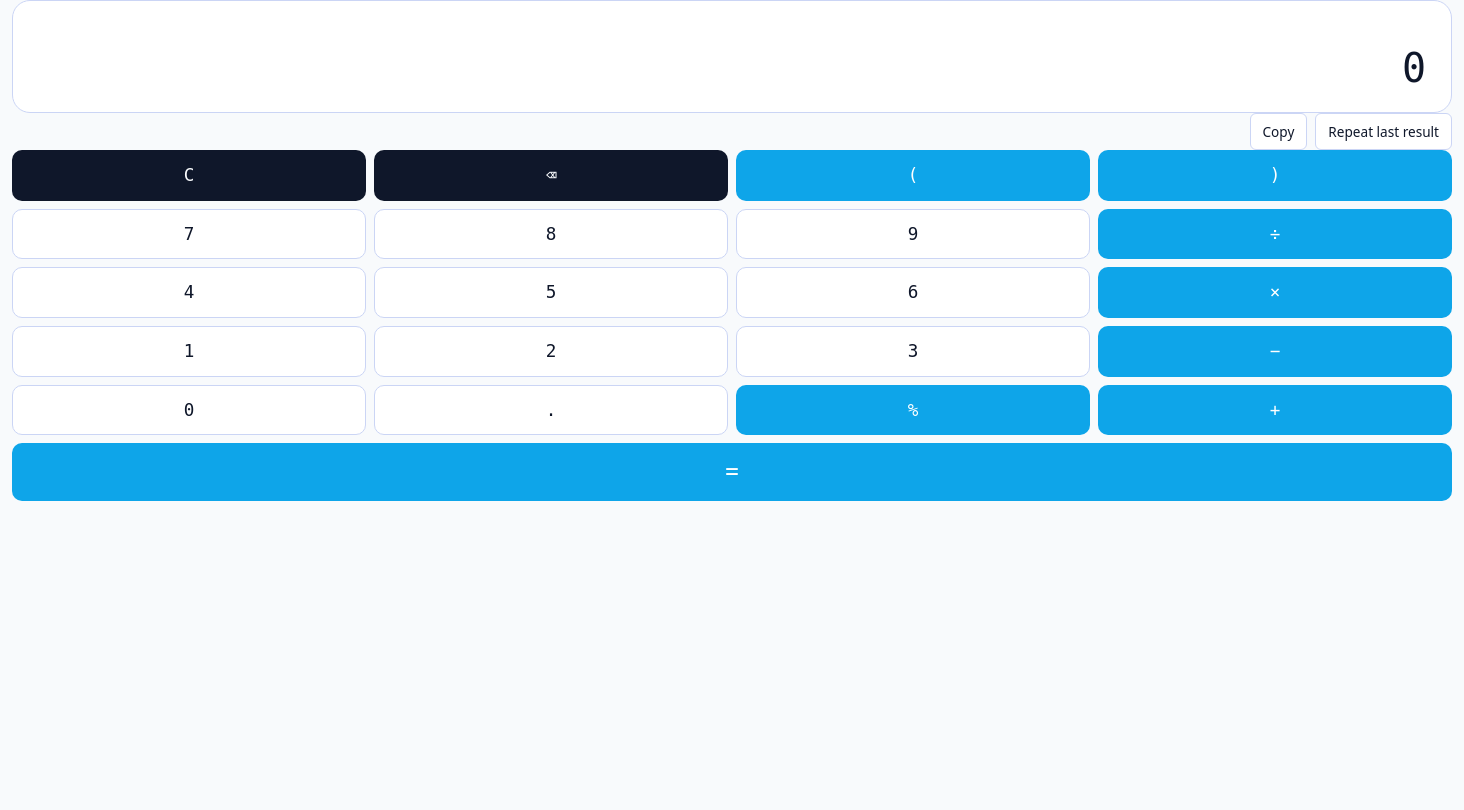
Test case: BasicView interactions › computes 2 + 3 * 4 with correct precedence
The width and height of the screenshot is (1464, 810).
Click the button "2".
click(551, 351)  # box [374, 326, 728, 376]
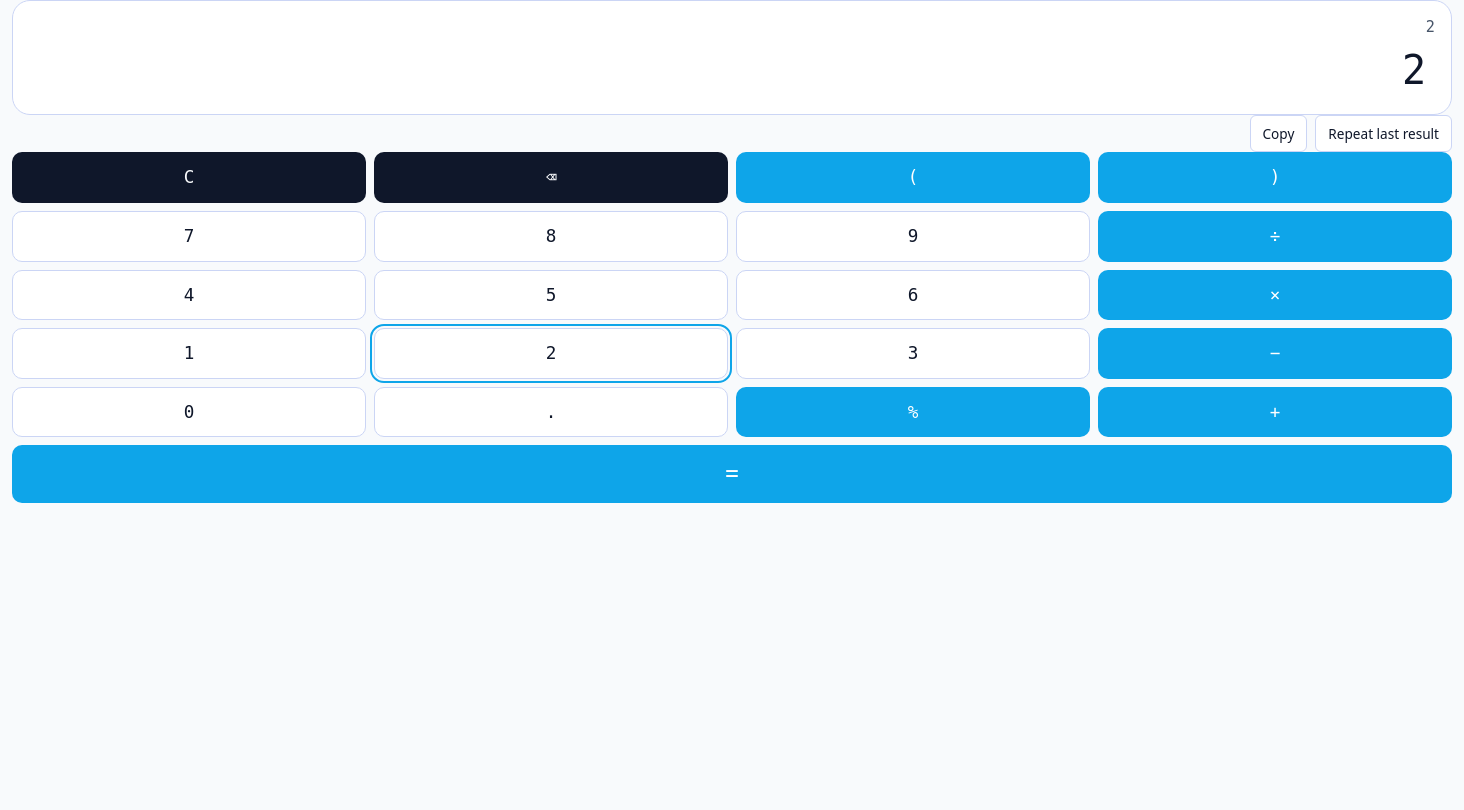
Click the button "+".
click(1275, 412)  # box [1098, 387, 1452, 437]
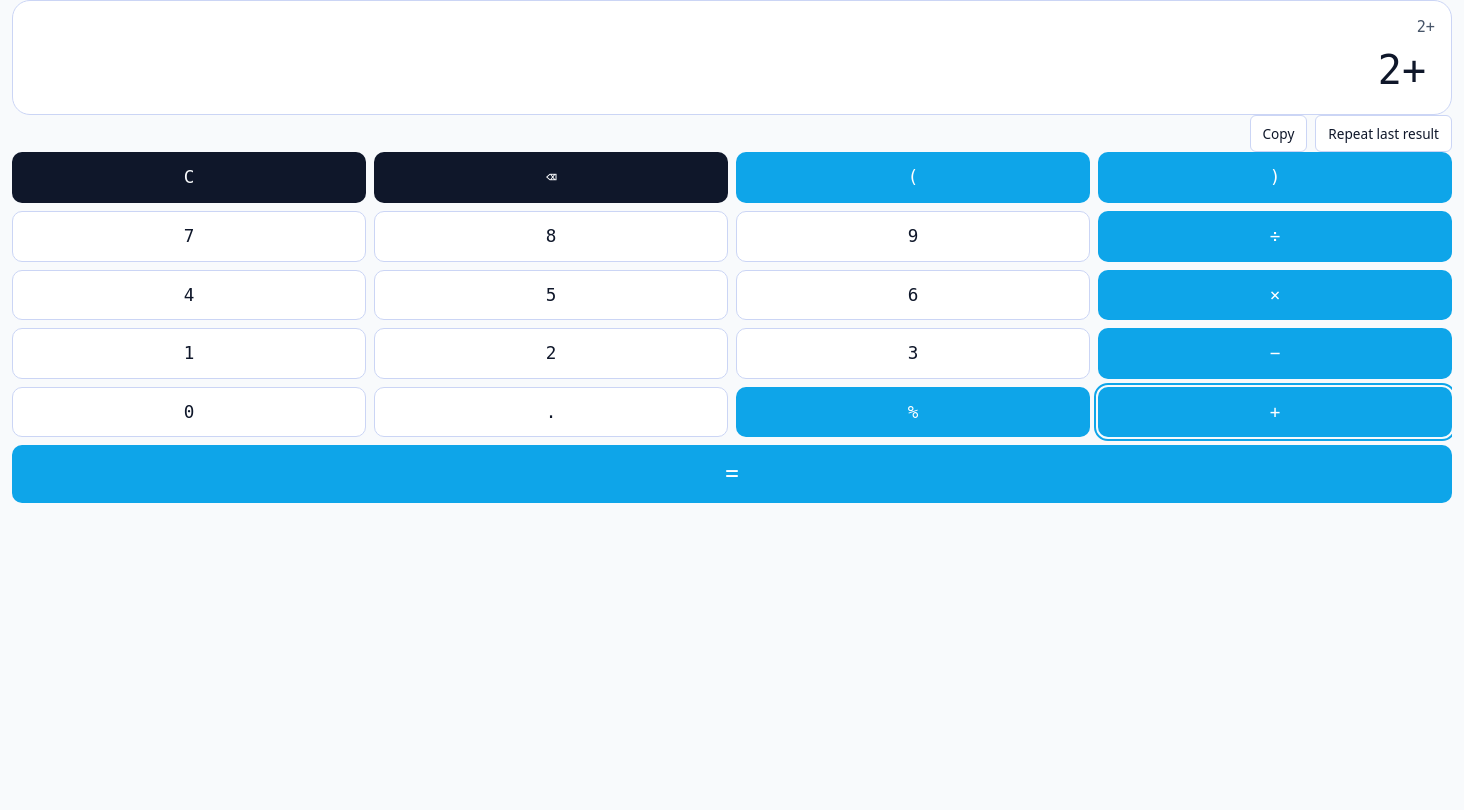
Click the button "3".
click(913, 354)  # box [736, 328, 1090, 379]
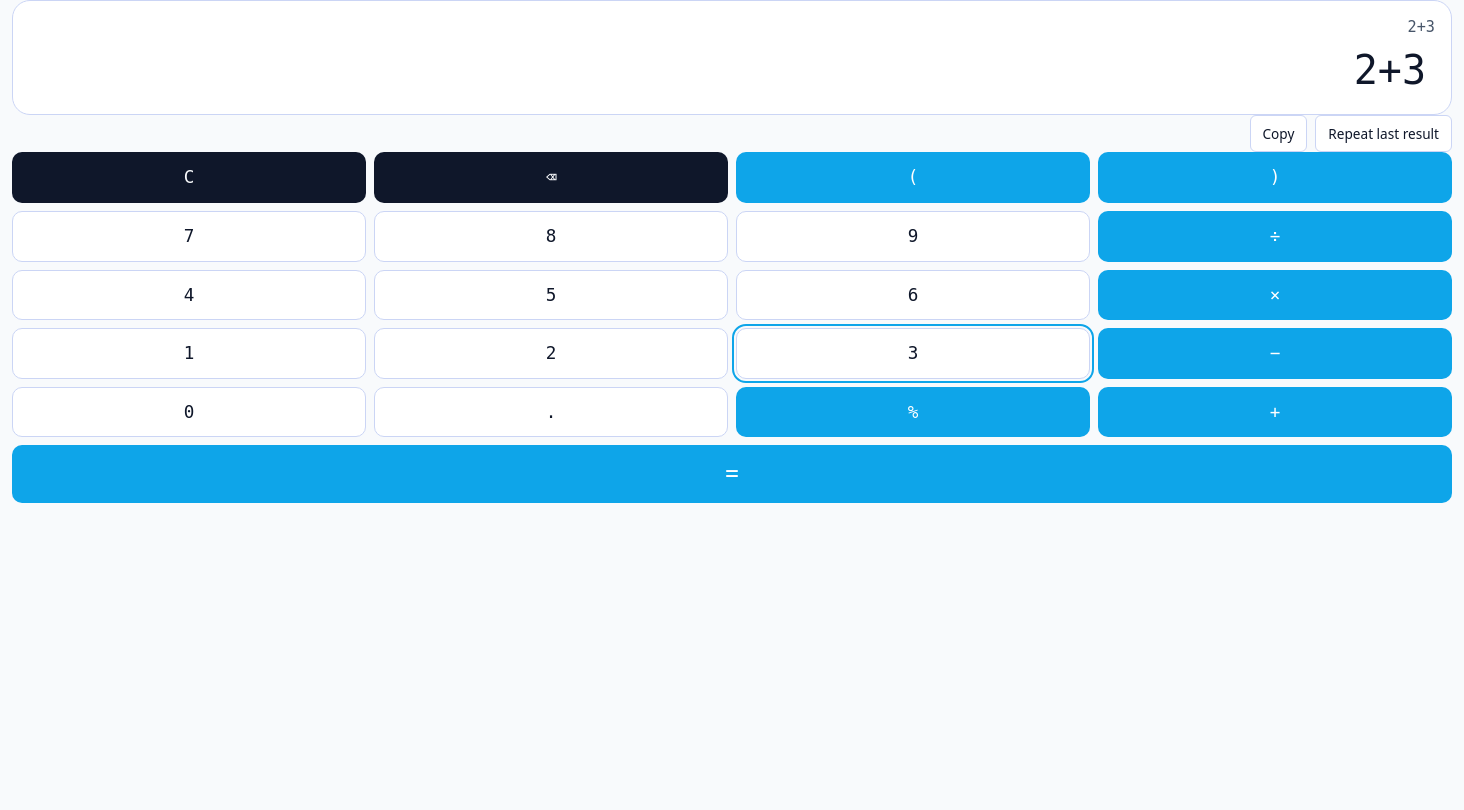
Click the button "×".
click(1275, 295)  # box [1098, 270, 1452, 320]
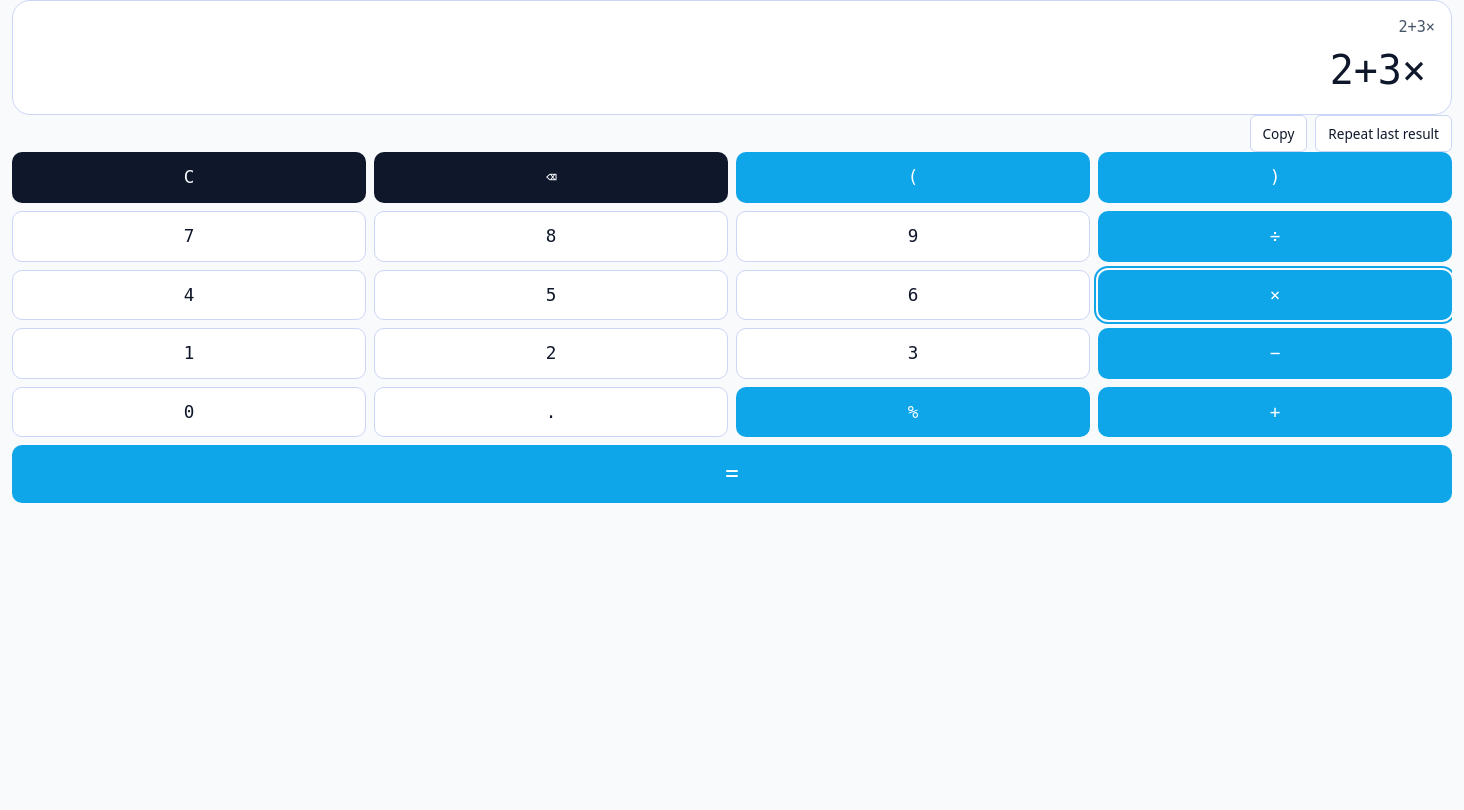
Click the button "4".
click(189, 295)  # box [12, 270, 366, 320]
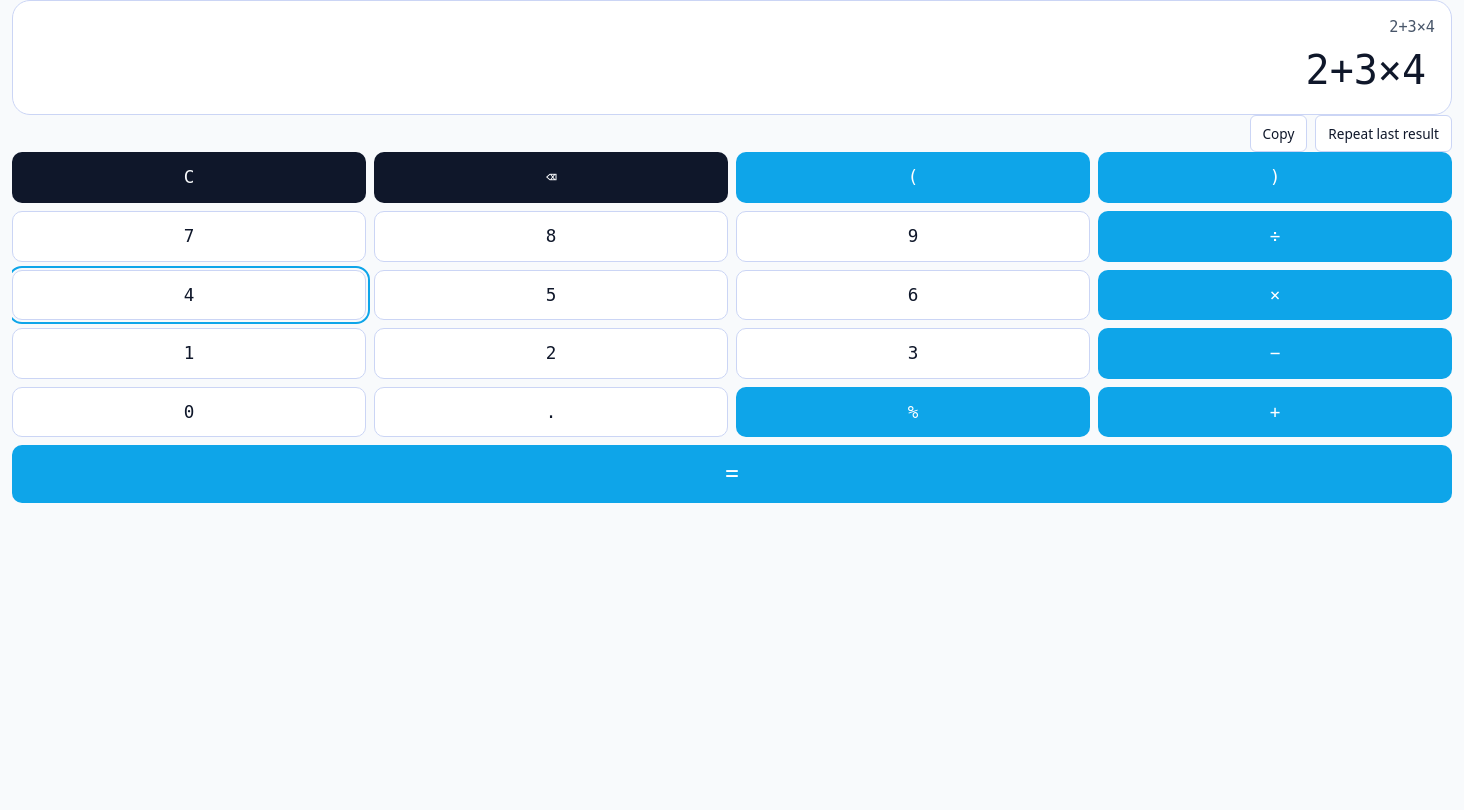
Click the button with test id "key-equals".
click(732, 474)  # box [12, 445, 1452, 503]
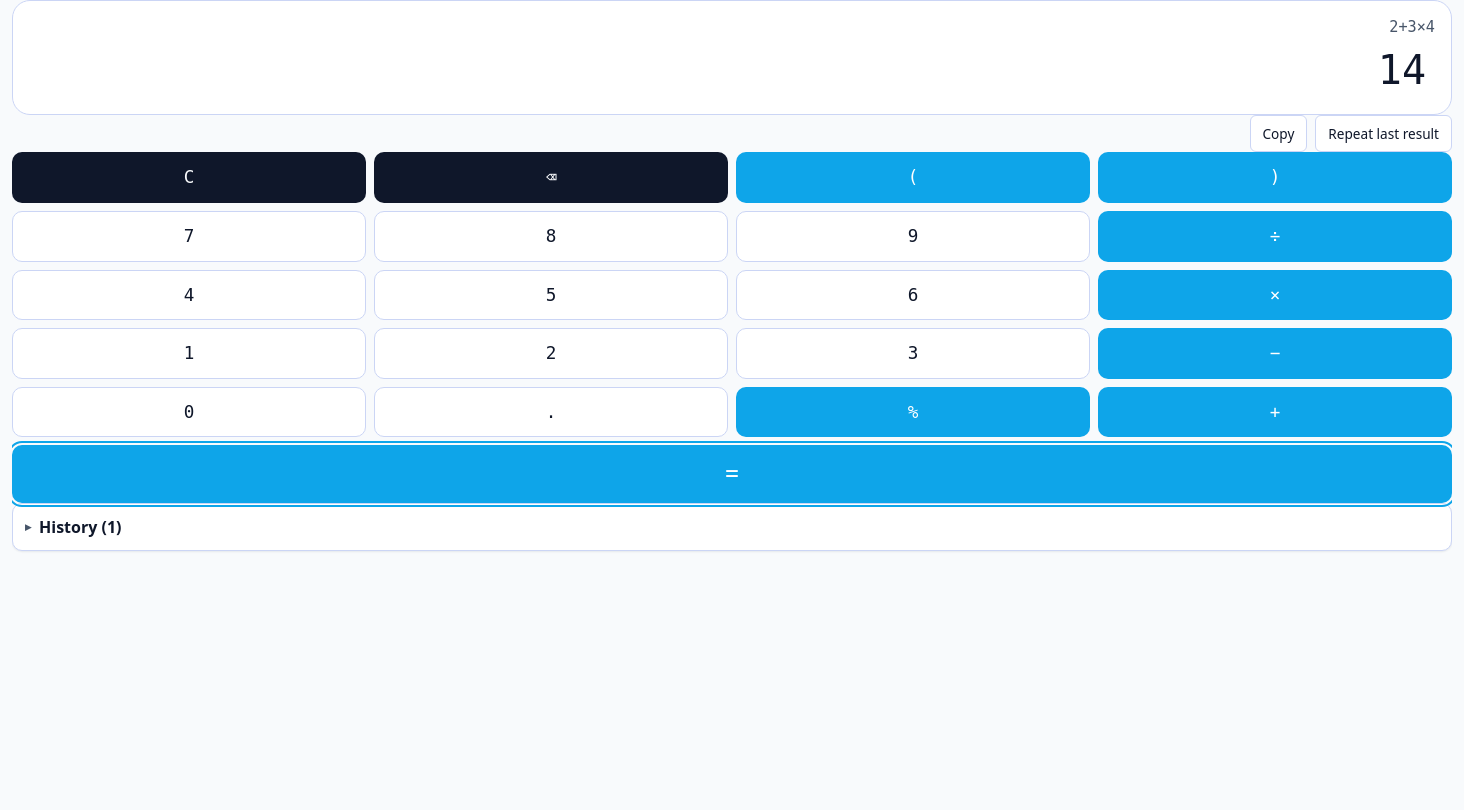
Expected: the field with test id "display-value" holds "14", [29, 42, 1435, 98]
